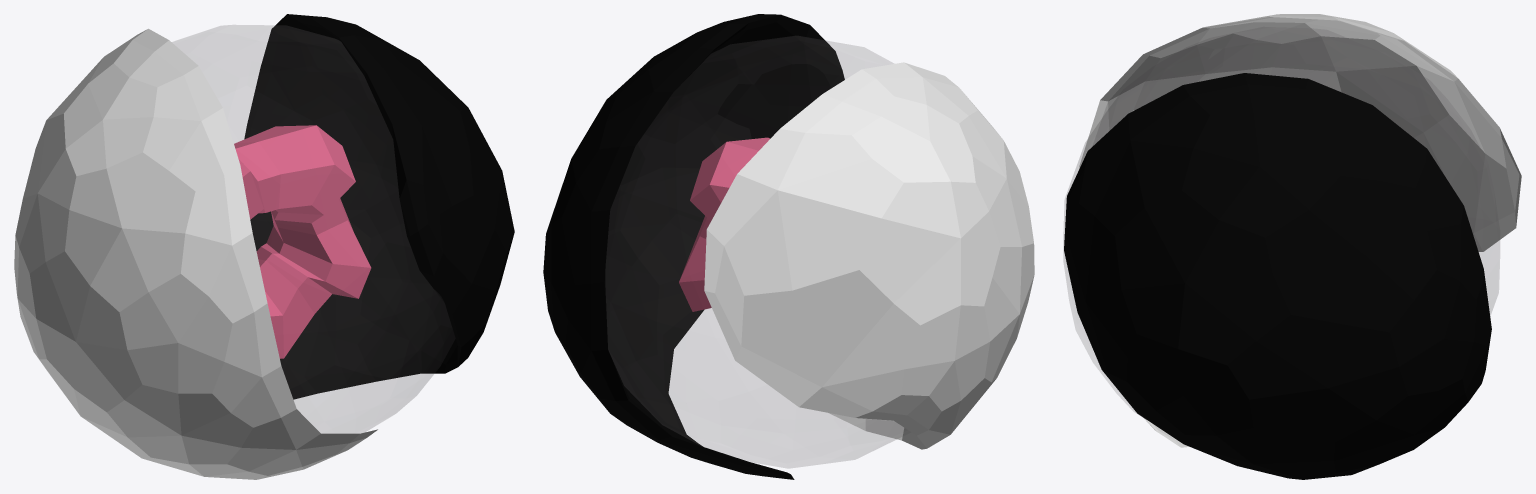
Rendered from ponto de desequilibrio.fbx.
The picture shows the model from 3 angles, left to right: view 1: azimuth 30°, elevation 25°; view 2: azimuth 150°, elevation 25°; view 3: azimuth 270°, elevation 25°; orthographic projection.
Parts seen in each view (by area): view 1: branco, preto, trans, engrenagem; view 2: branco, preto, trans, engrenagem; view 3: preto, branco, trans.
Boxes of the visible parts, x1,y1,x2,y2 form: branco: [14, 28, 377, 479]; preto: [244, 14, 514, 399]; trans: [172, 25, 455, 433]; engrenagem: [234, 125, 371, 358]; branco: [704, 62, 1034, 449]; preto: [543, 14, 844, 479]; trans: [605, 36, 910, 468]; engrenagem: [679, 137, 769, 311]; preto: [1064, 73, 1491, 479]; branco: [1079, 14, 1521, 447]; trans: [1063, 27, 1499, 413].
Bounding box in the file's own units: 249 × 222 × 227.
